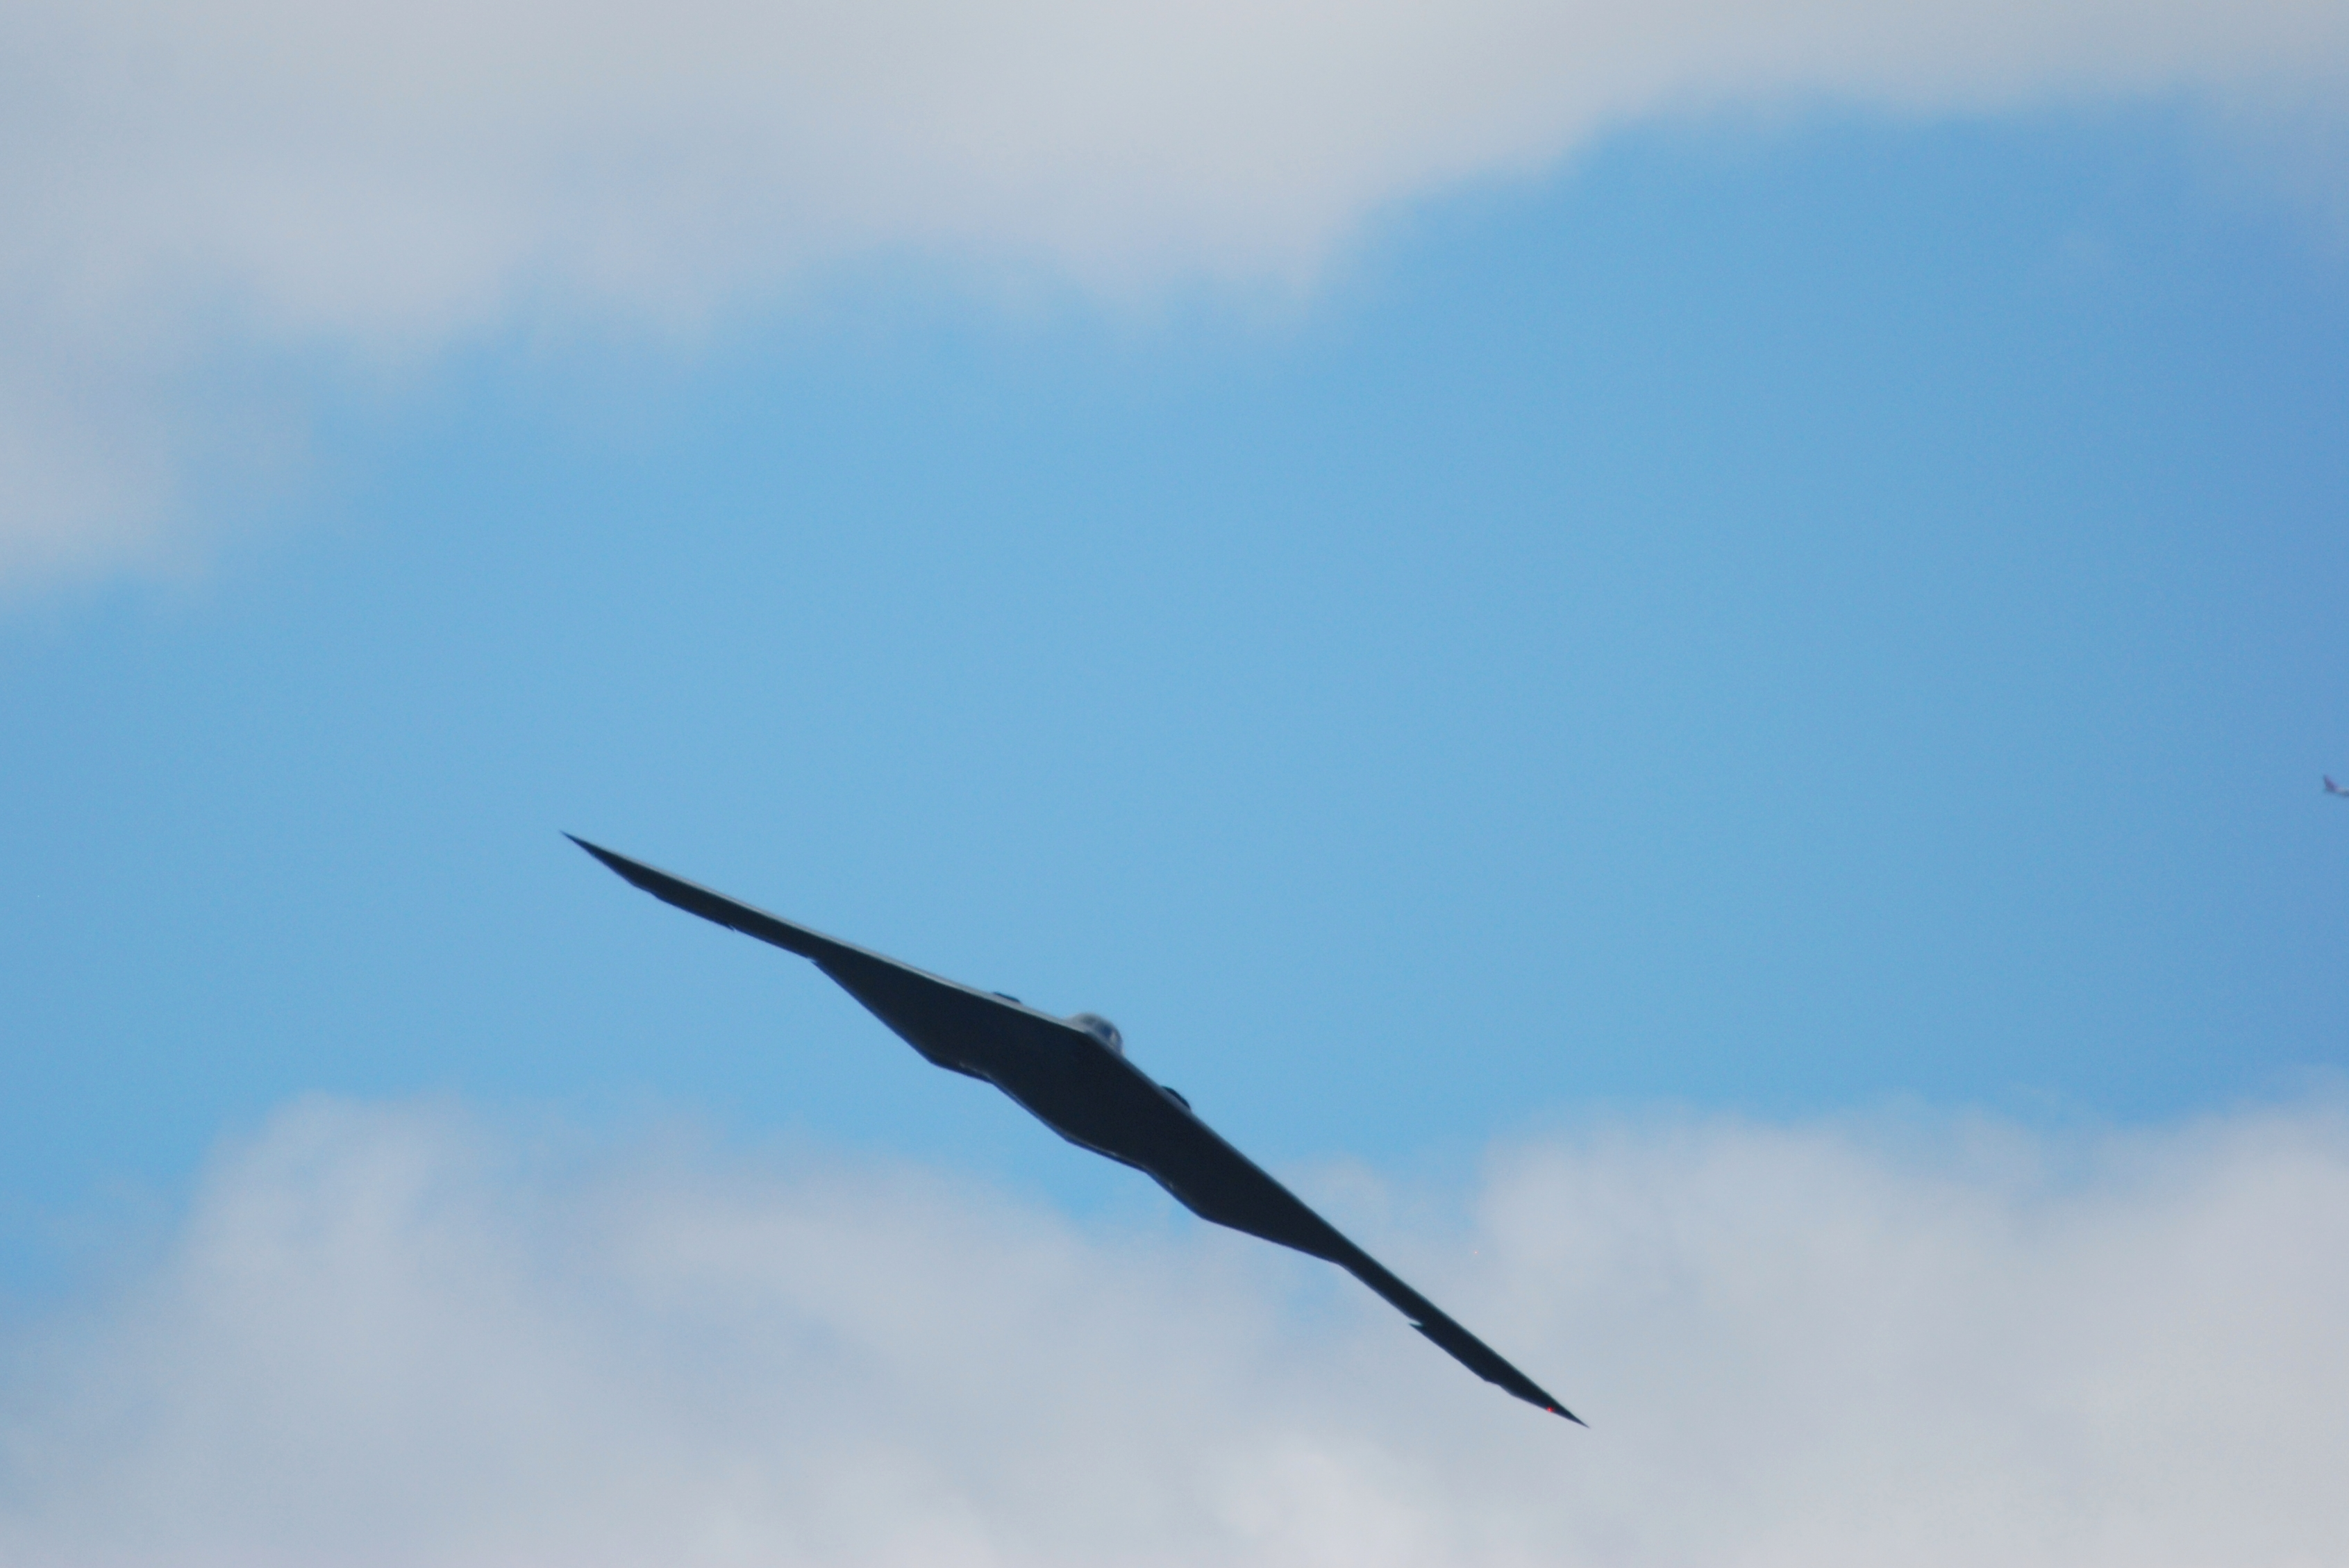B2: (556, 828, 1592, 1430)
